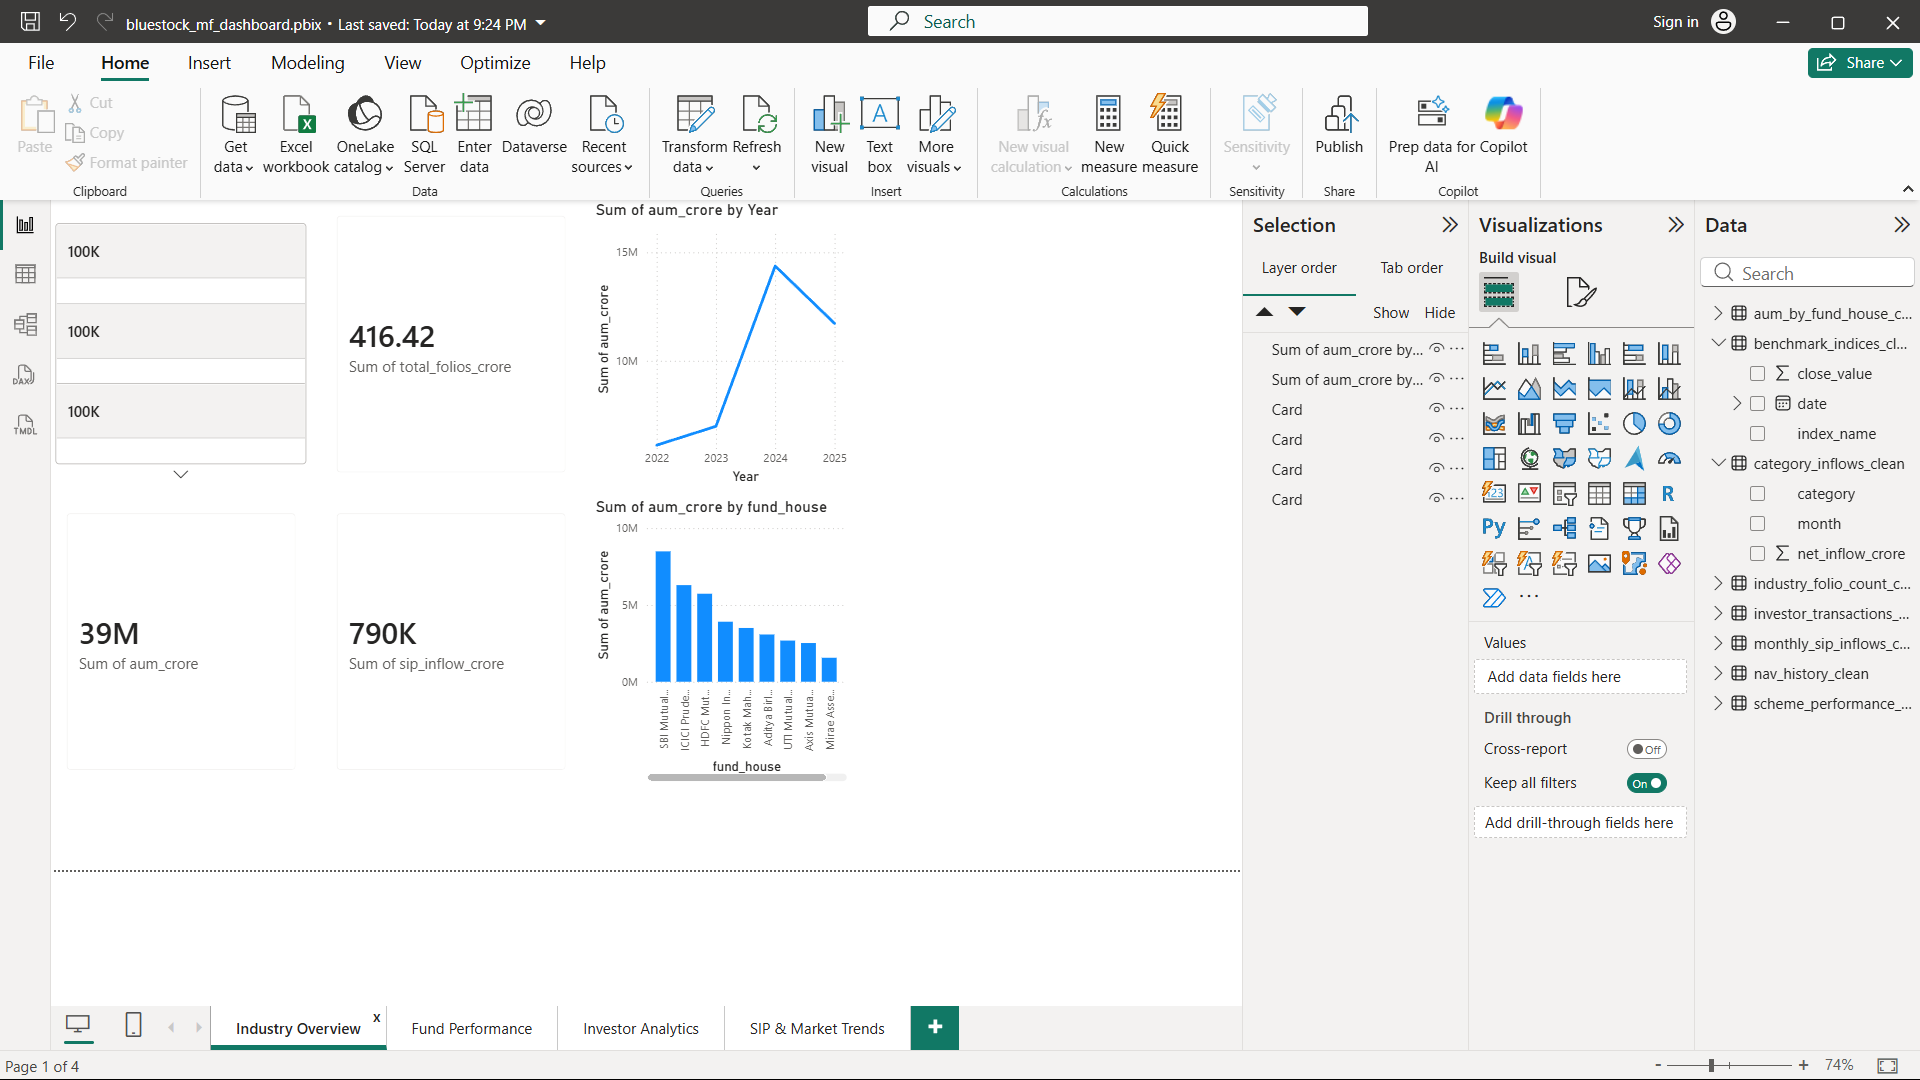

The dashboard page shown, as its layout file describes it:
{"tool":"powerbi","page":{"name":"Industry Overview","canvas":[1280,720],"ordinal":0},"visuals":[{"type":"cardVisual","fields":{"Rows":["scheme_performance_clean.amfi_code"]},"box":[0,0,279.9,310.1],"z":0},{"type":"cardVisual","fields":{"Data":["Sum(aum_by_fund_house_clean.aum_crore)"]},"box":[0,320,280,310],"z":1000},{"type":"cardVisual","fields":{"Data":["Sum(industry_folio_count_clean.total_folios_crore)"]},"box":[290,0,280,310],"z":2000},{"type":"cardVisual","fields":{"Data":["Sum(monthly_sip_inflows_clean.sip_inflow_crore)"]},"box":[290,320,280,310],"z":3000},{"type":"lineChart","fields":{"Category":["aum_by_fund_house_clean.date.Variation.Date Hierarchy.Year","aum_by_fund_house_clean.date.Variation.Date Hierarchy.Quarter","aum_by_fund_house_clean.date.Variation.Date Hierarchy.Month","aum_by_fund_house_clean.date.Variation.Date Hierarchy.Day"],"Y":["Sum(aum_by_fund_house_clean.aum_crore)"]},"box":[580,0,280,310],"z":4000},{"type":"clusteredColumnChart","fields":{"Category":["aum_by_fund_house_clean.fund_house"],"Y":["Sum(aum_by_fund_house_clean.aum_crore)"]},"box":[580,320,280,310],"z":5000}]}

Visuals, with their boxes on the page's 1280x720 design canvas (x1, y1, x2, y2). These are canvas units, not pixel positions in the 1920x1080 screenshot, which may show the page scaled, cropped or inside an application window:
cardVisual - scheme_performance_clean.amfi_code: Rect(0, 0, 280, 310)
cardVisual - Sum(aum_by_fund_house_clean.aum_crore): Rect(0, 320, 280, 630)
cardVisual - Sum(industry_folio_count_clean.total_folios_crore): Rect(290, 0, 570, 310)
cardVisual - Sum(monthly_sip_inflows_clean.sip_inflow_crore): Rect(290, 320, 570, 630)
lineChart - aum_by_fund_house_clean.date.Variation.Date Hierarchy.Year x aum_by_fund_house_clean.date.Variation.Date Hierarchy.Quarter: Rect(580, 0, 860, 310)
clusteredColumnChart - aum_by_fund_house_clean.fund_house x Sum(aum_by_fund_house_clean.aum_crore): Rect(580, 320, 860, 630)
